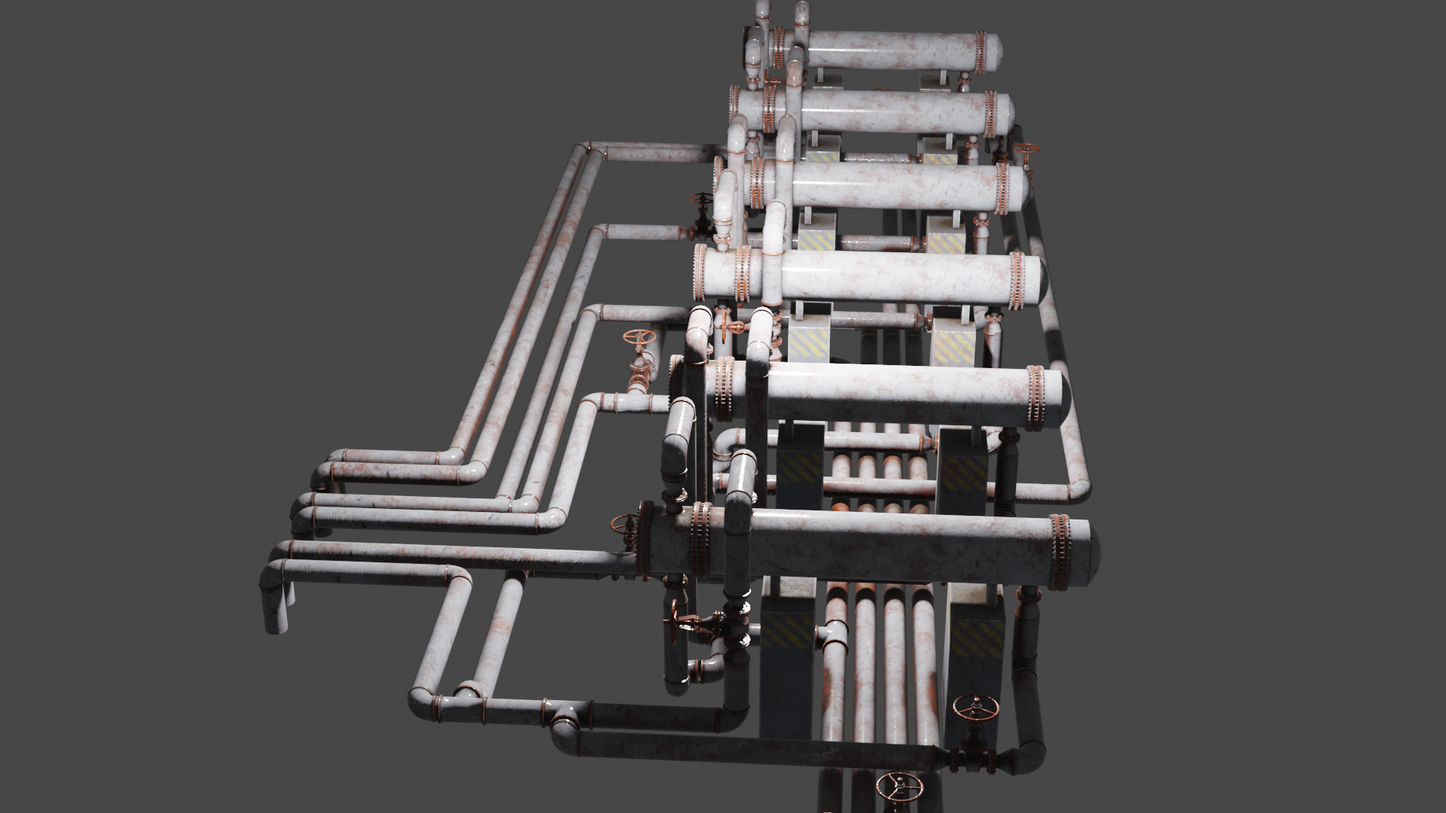HE_1: (757, 26, 1004, 71)
HE_2: (727, 85, 1016, 137)
HE_3: (712, 153, 1030, 210)
HE_4: (688, 240, 1052, 309)
HE_5: (667, 352, 1073, 425)
HE_6: (638, 497, 1101, 592)
